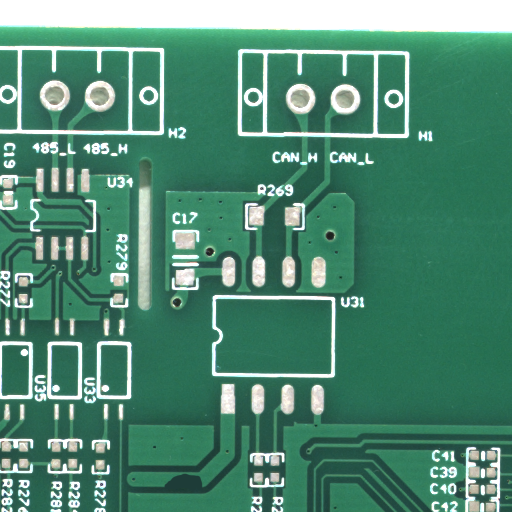Mouse_bite: (185, 482, 229, 506)
